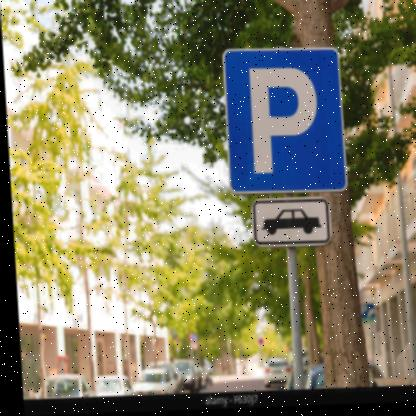Parking: (216, 41, 348, 196)
